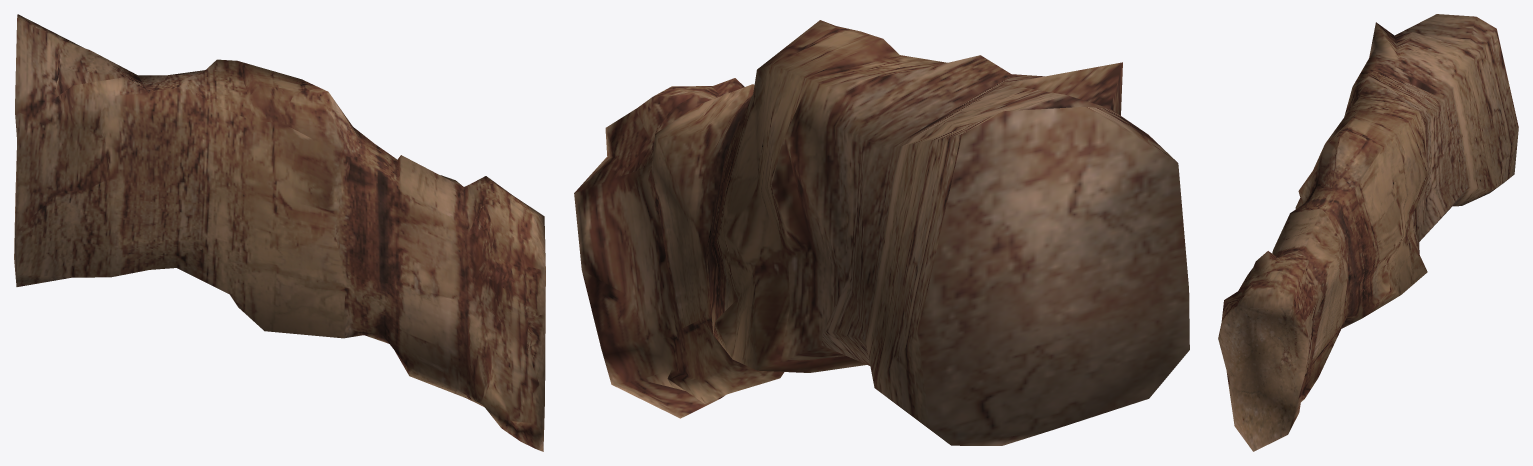
File: Mesh_Cliff_Fin_02_Arch_AT.fbx
The picture shows the model from 3 angles, left to right: view 1: azimuth 30°, elevation 25°; view 2: azimuth 150°, elevation 25°; view 3: azimuth 270°, elevation 25°; orthographic projection. The views are drawn at different scales.
Parts seen in each view (by area): view 1: Mesh_Cliff_Fin_02_Arch_AT; view 2: Mesh_Cliff_Fin_02_Arch_AT; view 3: Mesh_Cliff_Fin_02_Arch_AT.
Boxes of the visible parts, bbox=[...] form: Mesh_Cliff_Fin_02_Arch_AT: bbox=[14, 14, 545, 451]; Mesh_Cliff_Fin_02_Arch_AT: bbox=[574, 20, 1189, 445]; Mesh_Cliff_Fin_02_Arch_AT: bbox=[1218, 14, 1518, 451].
Size of the model in its own units: 6893 by 5759 by 5197.
